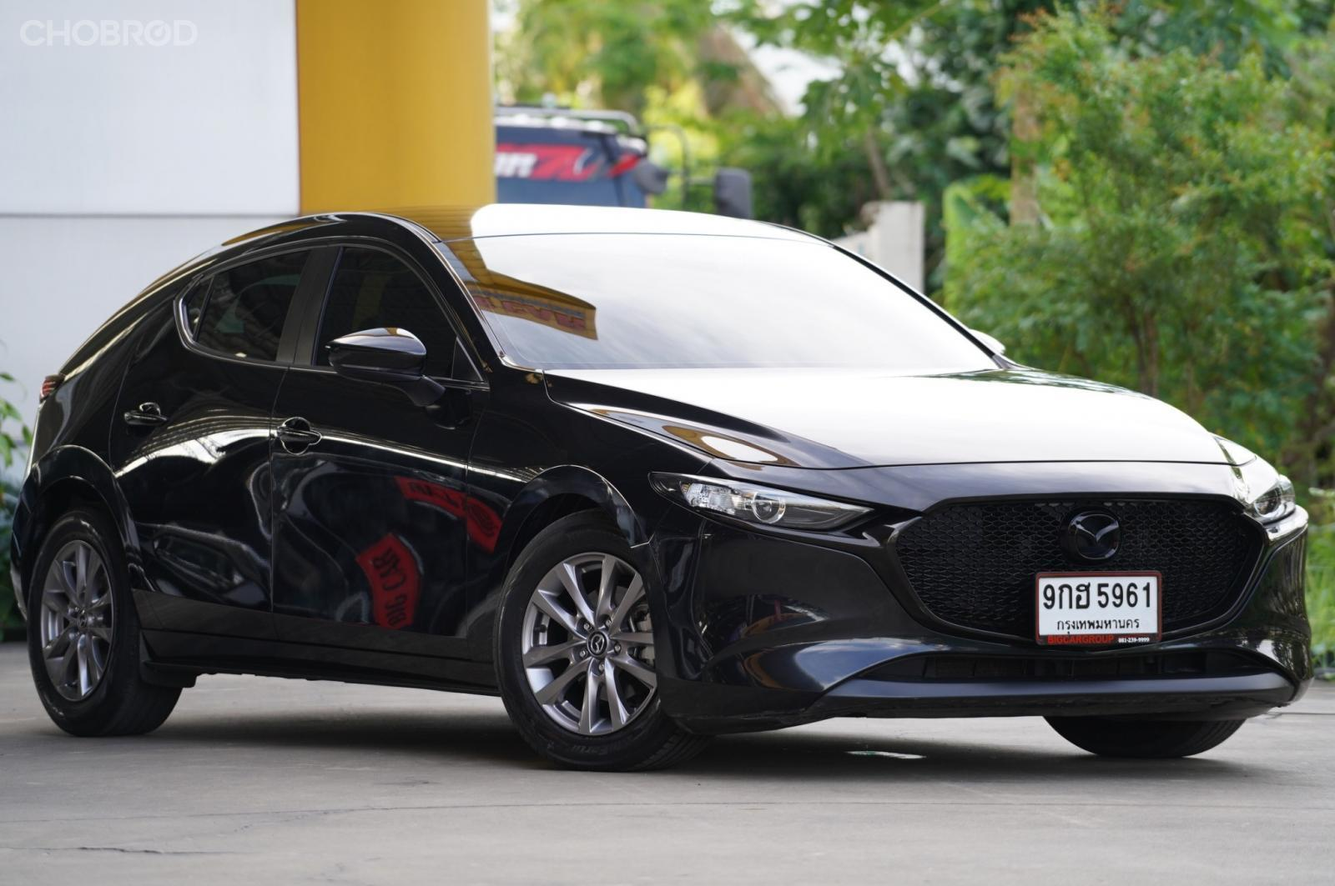license-plate: (1033, 566, 1165, 647)
